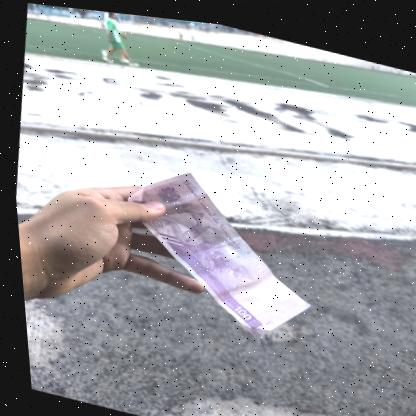one_hundred-back-vef: (105, 150, 324, 347)
